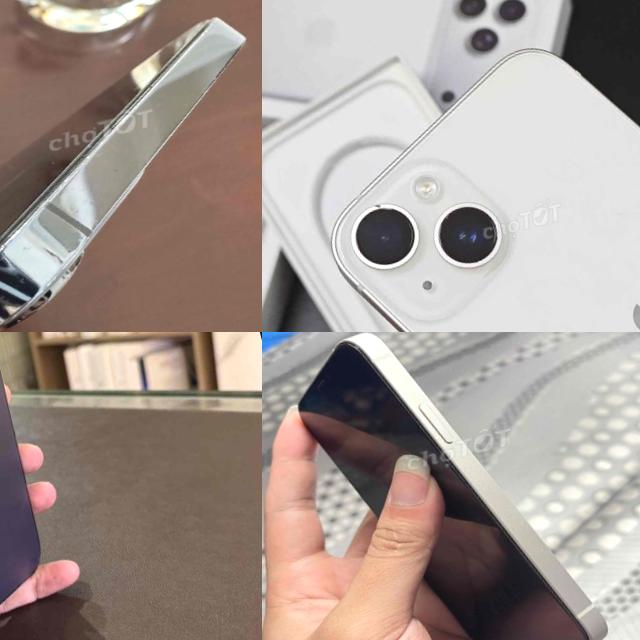gen_12_13: (262, 332, 617, 640), (0, 1, 262, 332)
gen_14: (290, 0, 640, 332), (0, 332, 68, 640)
